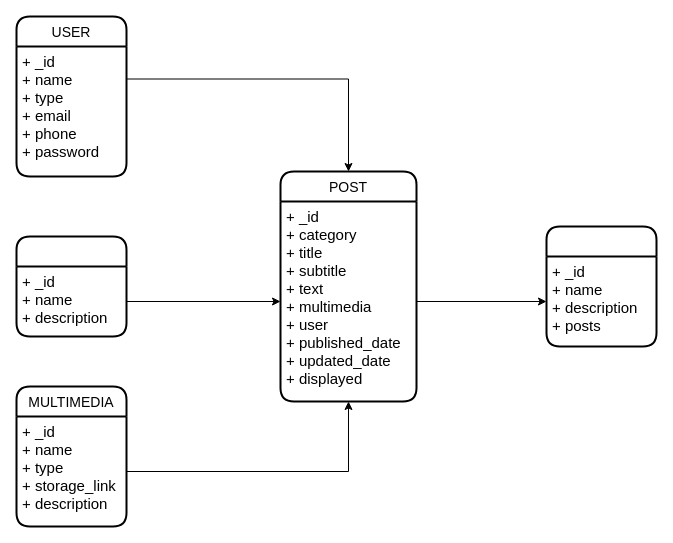
Some shapes in this 673 by 543 pixel diagram are drawn without their labels. The box of each missing label's shape, as (x1, y1, x2, y2) in pixels:
CATEGORY: (15, 235, 127, 337)
SECTION: (545, 225, 657, 347)
